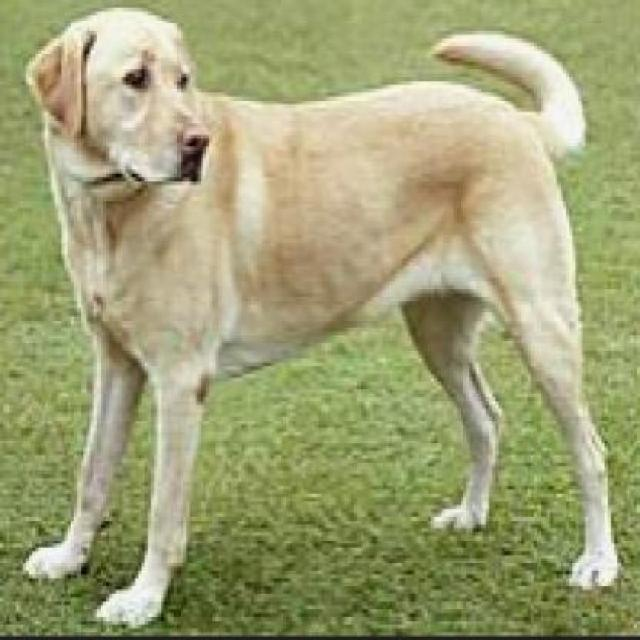Dog: (17, 5, 628, 637)
